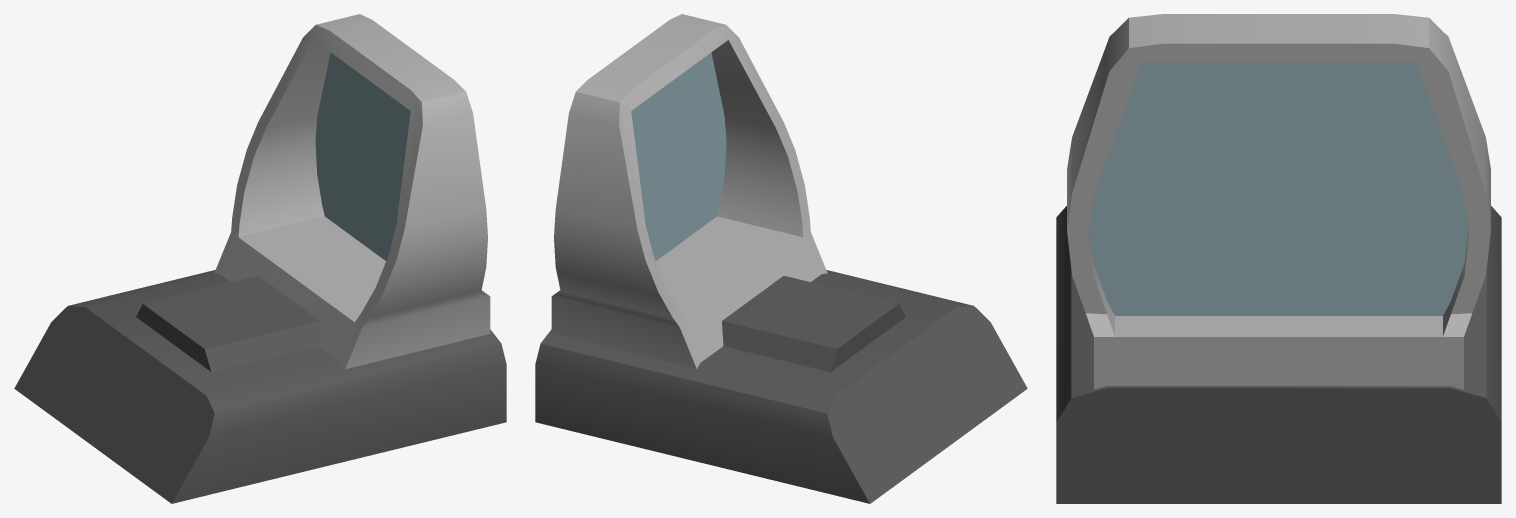
File: Sight_3.gltf
3 views of the same model, side by side, from view 1: azimuth 30°, elevation 25°; view 2: azimuth 150°, elevation 25°; view 3: azimuth 270°, elevation 25° (orthographic). The views are drawn at different scales.
Parts seen in each view (by area): view 1: Sight_3; view 2: Sight_3; view 3: Sight_3.
Boxes of the visible parts, x1,y1,x2,y2 form: Sight_3: [14, 14, 506, 503]; Sight_3: [535, 14, 1027, 503]; Sight_3: [1056, 14, 1501, 503].
Bounding box in the file's own units: 0.1203 × 0.1093 × 0.098.
